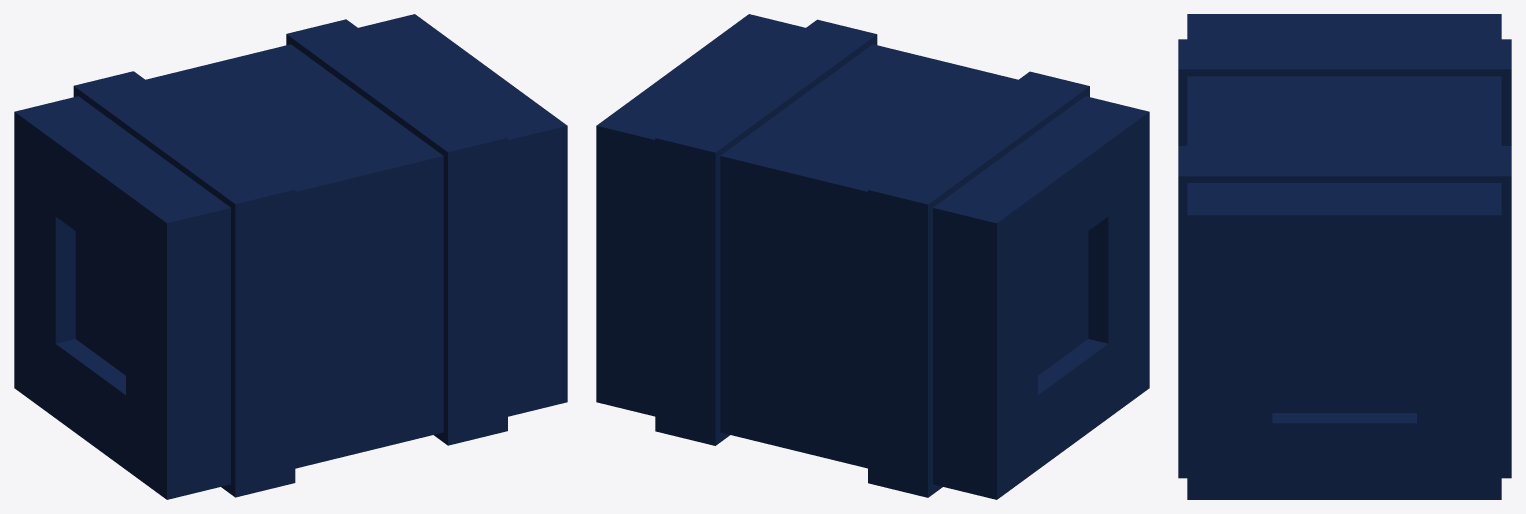
Rendered from Crate_LP.FBX.
3 renders of one model, left to right at view 1: azimuth 30°, elevation 25°; view 2: azimuth 150°, elevation 25°; view 3: azimuth 270°, elevation 25°, orthographic. The views are drawn at different scales.
Visible parts, largest first — view 1: Crate_LP, CrateGuard_LP; view 2: Crate_LP, CrateGuard_LP; view 3: Crate_LP, CrateGuard_LP.
Part boxes in pixels (x1=…): Crate_LP: x1=14, y1=14, x2=567, y2=499; CrateGuard_LP: x1=73, y1=19, x2=507, y2=497; Crate_LP: x1=596, y1=14, x2=1149, y2=499; CrateGuard_LP: x1=655, y1=19, x2=1089, y2=497; Crate_LP: x1=1187, y1=14, x2=1501, y2=499; CrateGuard_LP: x1=1178, y1=39, x2=1511, y2=478.
Bounding box in the file's own units: 1 × 0.7 × 0.7.
